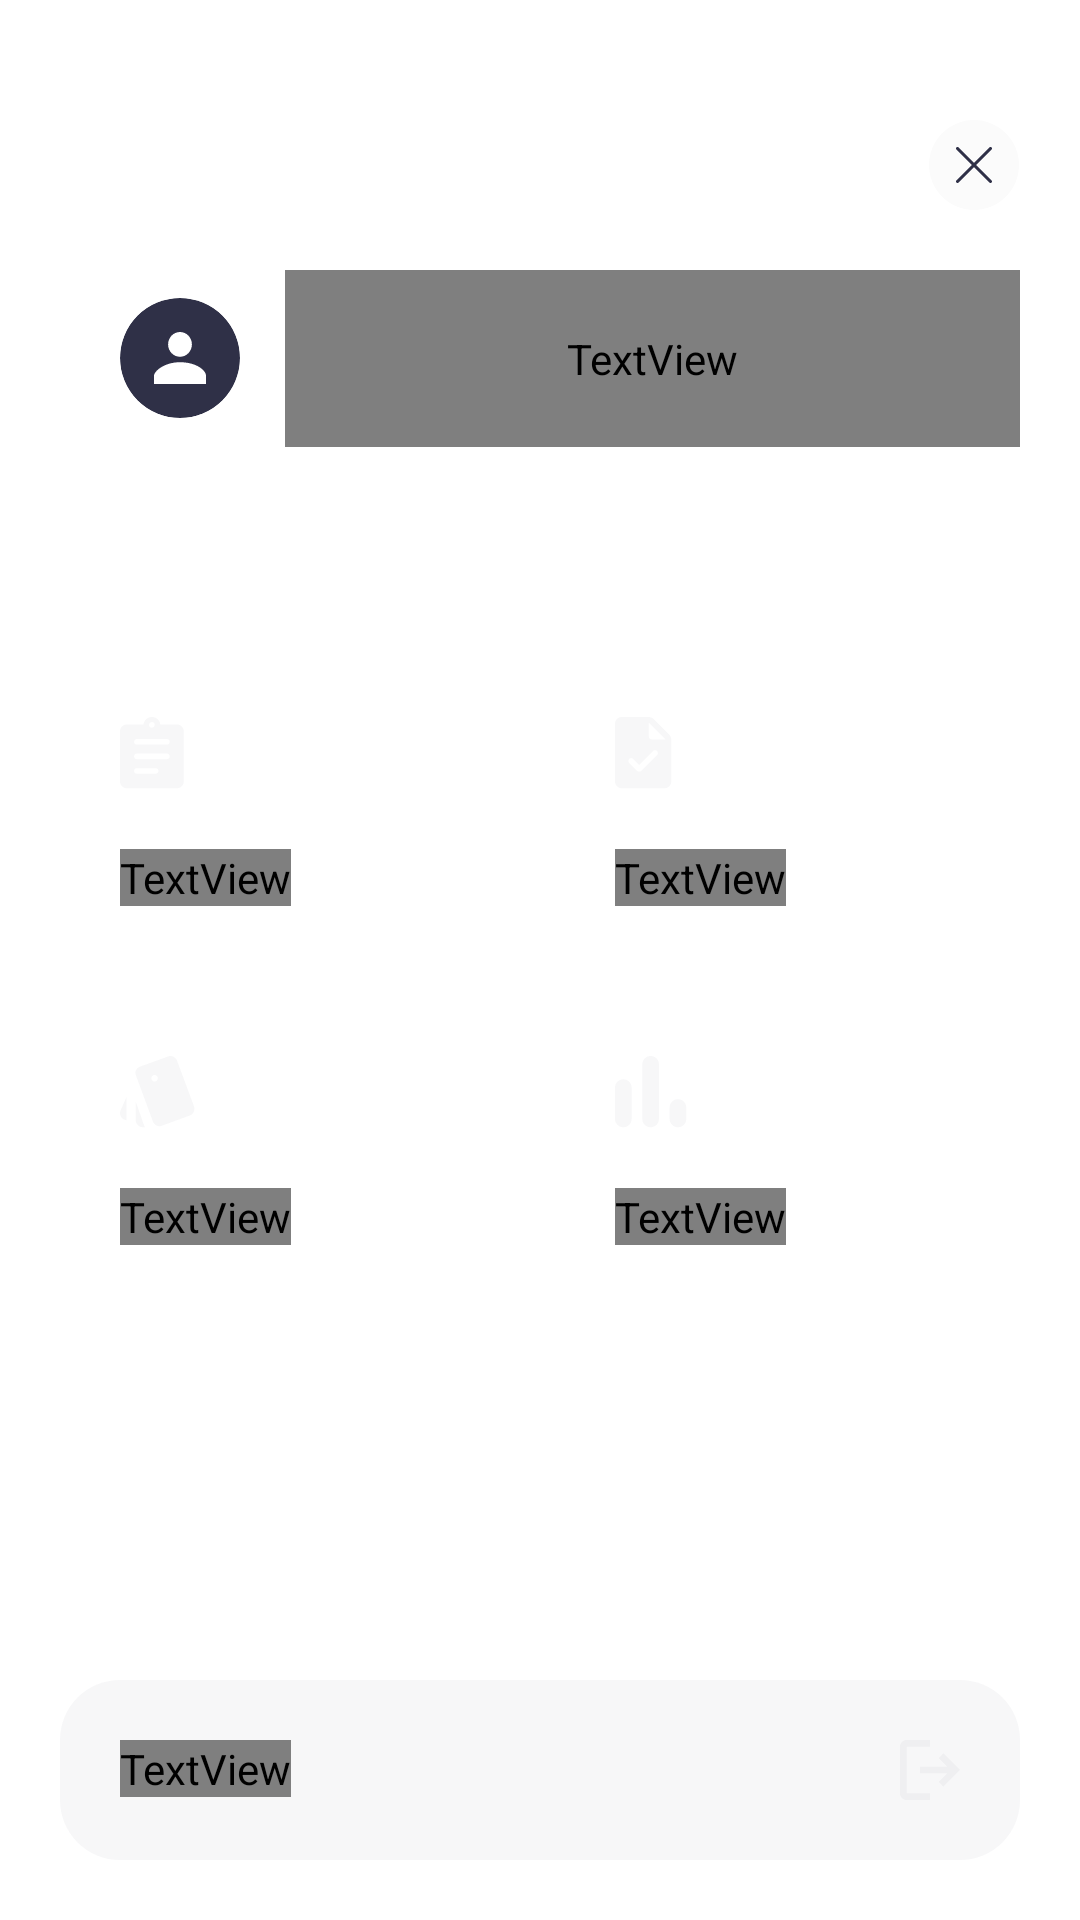

Named icons in this screenshot (1080*1920) and their centers, [x,y]:
close: [974,165]
profile: [180,358]
